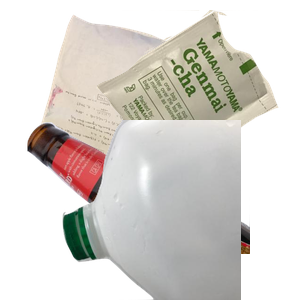glass: (25, 120, 265, 300)
paper: (33, 12, 214, 192)
plastic: (60, 120, 300, 300)
trash: (91, 10, 300, 186)
